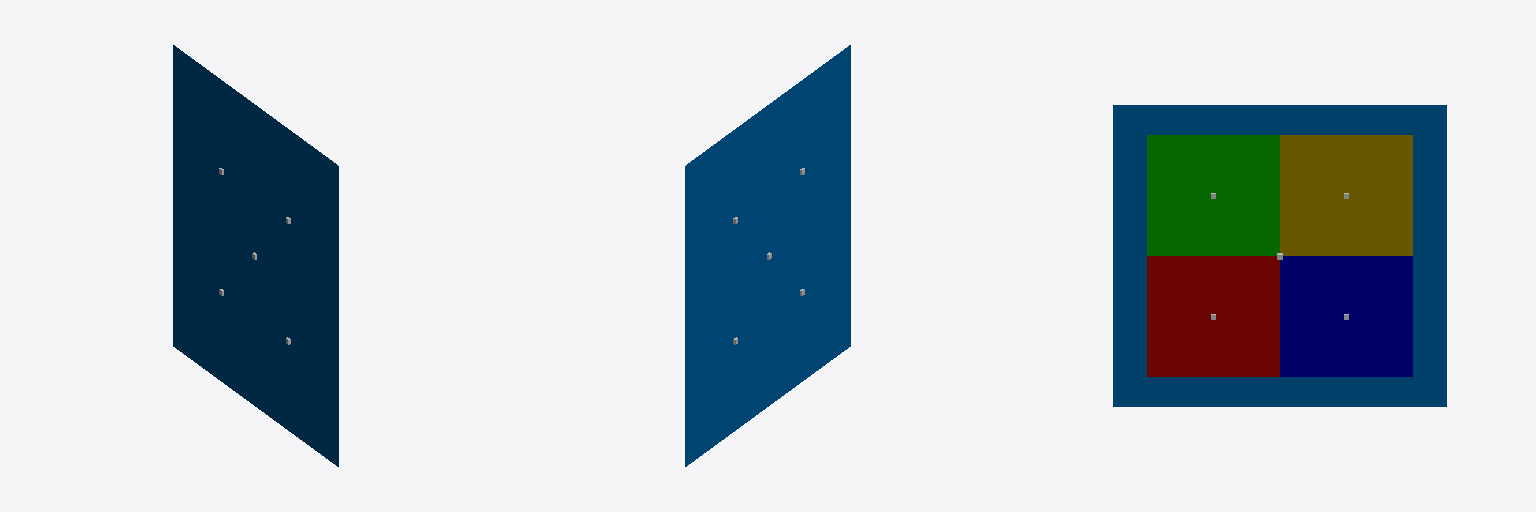
File: shooter.obj
3 renders of one model, left to right at view 1: azimuth 30°, elevation 25°; view 2: azimuth 150°, elevation 25°; view 3: azimuth 270°, elevation 25°, orthographic.
Visible parts, largest first — view 1: 20_colornovar_.5_.5_1_Plane.004; view 2: 20_colornovar_.5_.5_1_Plane.004; view 3: 20_colornovar_.5_.5_1_Plane.004, 10_color_1_1_0_Plane.003, 10_color_0_1_0_Plane, 10_color_0_0_1_Plane.002, 10_color_1_0_0_Plane.001.
Part boxes in pixels (x1,y1,x2,y2): 20_colornovar_.5_.5_1_Plane.004: (173, 45, 338, 466); 20_colornovar_.5_.5_1_Plane.004: (685, 45, 850, 466); 20_colornovar_.5_.5_1_Plane.004: (1113, 105, 1446, 406); 10_color_1_1_0_Plane.003: (1280, 135, 1412, 255); 10_color_0_1_0_Plane: (1147, 135, 1279, 255); 10_color_0_0_1_Plane.002: (1280, 256, 1412, 376); 10_color_1_0_0_Plane.001: (1147, 256, 1279, 376).
Bounding box in the file's own units: 0.0254 × 1.52 × 1.52.